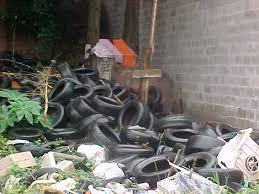tire: (132, 152, 186, 189), (88, 120, 134, 157), (29, 102, 70, 133), (114, 100, 152, 133), (162, 127, 210, 150), (41, 78, 77, 107), (174, 152, 219, 175), (178, 136, 228, 155), (214, 121, 250, 147), (5, 126, 50, 146), (109, 145, 155, 163), (77, 95, 107, 120), (153, 114, 197, 131), (75, 114, 112, 132), (49, 128, 90, 144), (69, 66, 105, 84), (40, 140, 82, 155), (135, 86, 164, 107), (66, 104, 96, 124), (57, 61, 79, 86), (66, 84, 96, 102)
